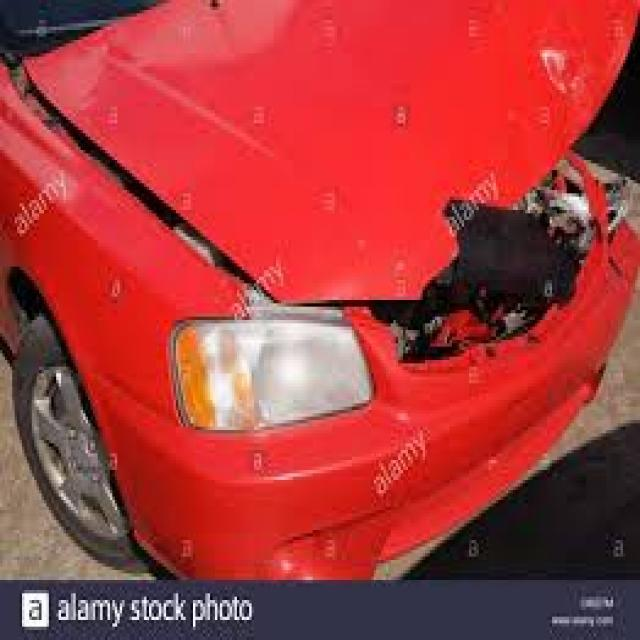damaged-hood: (0, 0, 640, 303)
